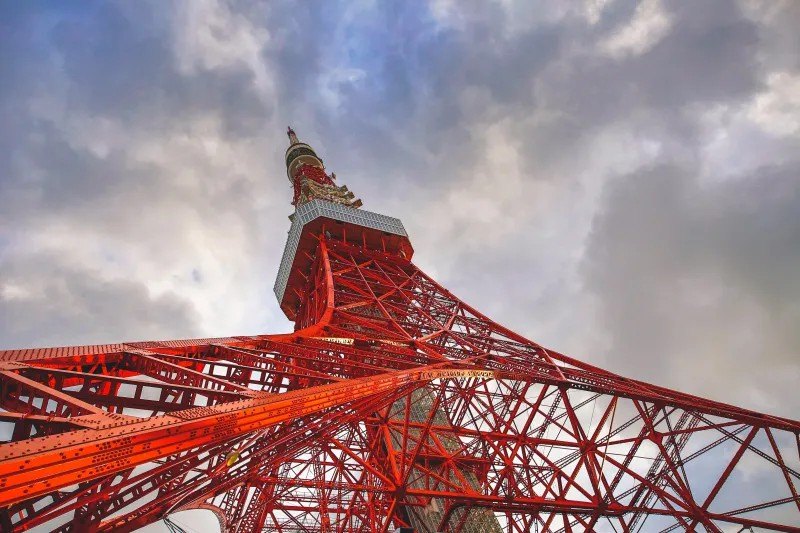Tokyo: (1, 121, 800, 532)
